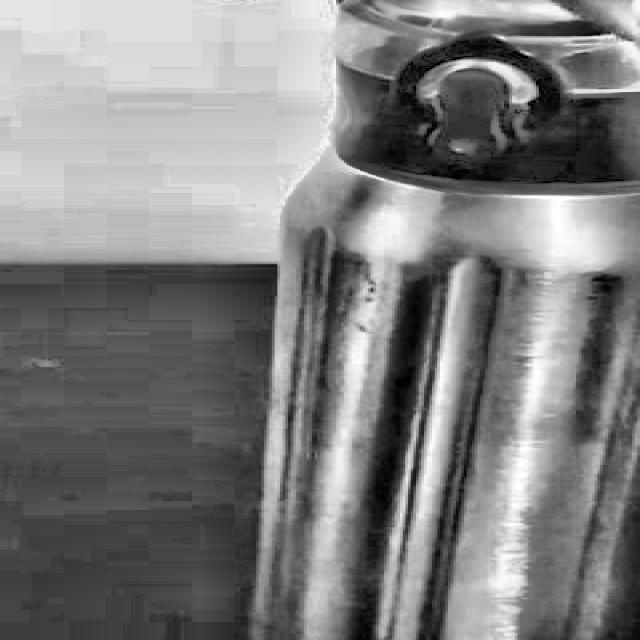bottle: (243, 0, 640, 640)
